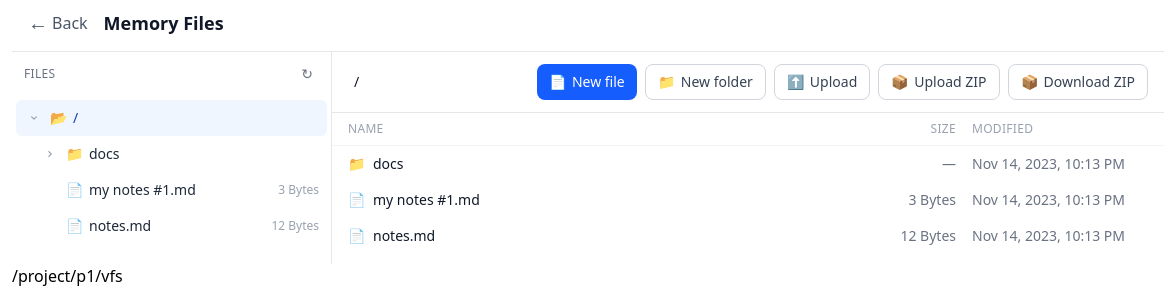
VfsManagerView › URL follows the selection › rewrites the URL when a file is picked in the tree
Click the list item "📄 notes.md 12 Bytes" at point(120, 226), box [66,216,319,235]
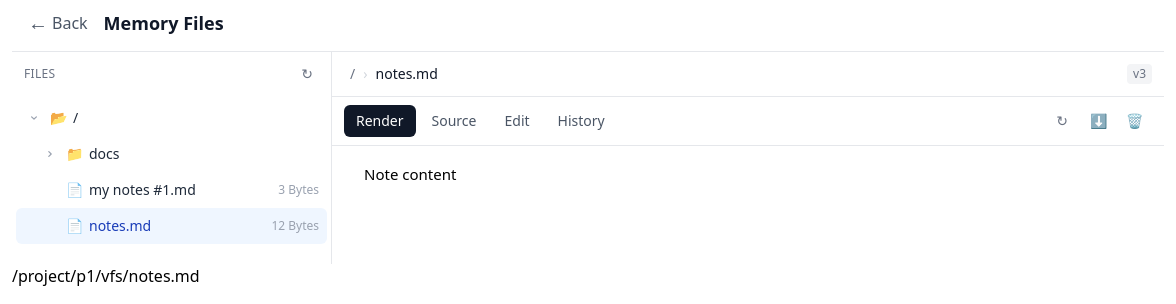
Now the text with test id "location" reads "/project/p1/vfs/notes.md", box [12,265,200,287]
Now the text "Note content" is shown, box [364,164,456,184]
